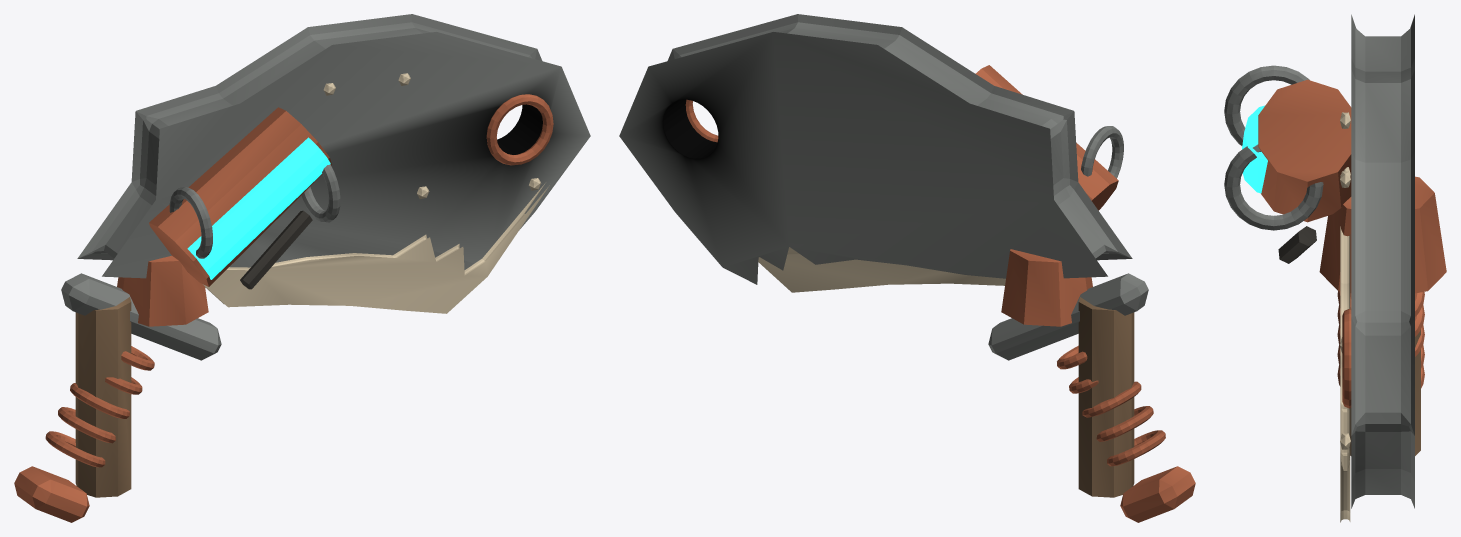
File: ash-cleaver.glb
3 views of the same model, side by side, from view 1: azimuth 30°, elevation 25°; view 2: azimuth 150°, elevation 25°; view 3: azimuth 270°, elevation 25° (orthographic). The views are drawn at different scales.
Visible parts, largest first — view 1: Cleaver | forged silhouette, Cleaver | pale cutting bevel, Cleaver | wrapped handle, Cleaver | reactor cage upper, Cleaver | cyan reactor, Cleaver | socket collar, Cleaver | cross guard, Cleaver | pommel, Cleaver | punched rim, Cleaver | reactor power cable, Cleaver | reactor clamp, Cleaver | reactor clamp.001 (+3 smaller); view 2: Cleaver | forged silhouette, Cleaver | wrapped handle, Cleaver | pale cutting bevel, Cleaver | socket collar, Cleaver | cross guard, Cleaver | pommel, Cleaver | reactor cage upper, Cleaver | reactor clamp, Cleaver | grip binding, Cleaver | grip binding.001, Cleaver | grip binding.002; view 3: Cleaver | forged silhouette, Cleaver | reactor cage upper, Cleaver | socket collar, Cleaver | reactor clamp.001, Cleaver | pale cutting bevel, Cleaver | reactor clamp, Cleaver | cyan reactor, Cleaver | punched rim, Cleaver | reactor power cable, Cleaver | wrapped handle.
Part boxes in pixels (box(x1,y1,x2,y2)): Cleaver | forged silhouette: box(77, 14, 590, 278); Cleaver | pale cutting bevel: box(203, 183, 549, 313); Cleaver | wrapped handle: box(75, 297, 131, 497); Cleaver | reactor cage upper: box(149, 107, 331, 286); Cleaver | cyan reactor: box(187, 137, 330, 279); Cleaver | socket collar: box(117, 255, 208, 326); Cleaver | cross guard: box(61, 273, 221, 360); Cleaver | pommel: box(14, 466, 89, 522); Cleaver | punched rim: box(486, 94, 553, 165); Cleaver | reactor power cable: box(240, 210, 312, 289); Cleaver | reactor clamp: box(169, 187, 212, 258); Cleaver | reactor clamp.001: box(301, 164, 340, 222); Cleaver | forged silhouette: box(619, 14, 1132, 284); Cleaver | wrapped handle: box(1078, 297, 1134, 497); Cleaver | pale cutting bevel: box(758, 247, 1005, 292); Cleaver | socket collar: box(1001, 249, 1092, 326); Cleaver | cross guard: box(988, 273, 1148, 360); Cleaver | pommel: box(1120, 466, 1195, 522); Cleaver | reactor cage upper: box(975, 65, 1118, 210); Cleaver | reactor clamp: box(1081, 126, 1123, 178); Cleaver | grip binding: box(1107, 430, 1165, 466); Cleaver | grip binding.001: box(1096, 406, 1153, 441); Cleaver | grip binding.002: box(1082, 381, 1141, 417); Cleaver | forged silhouette: box(1351, 14, 1414, 508); Cleaver | reactor cage upper: box(1258, 79, 1351, 222); Cleaver | socket collar: box(1319, 176, 1446, 293); Cleaver | reactor clamp.001: box(1224, 144, 1323, 230); Cleaver | pale cutting bevel: box(1340, 226, 1350, 522); Cleaver | reactor clamp: box(1224, 65, 1309, 145); Cleaver | cyan reactor: box(1242, 105, 1267, 193); Cleaver | punched rim: box(1342, 309, 1351, 408); Cleaver | reactor power cable: box(1278, 226, 1316, 263); Cleaver | wrapped handle: box(1350, 329, 1420, 455).
Bounding box in the file's own units: 2.11 × 1.52 × 0.56.
